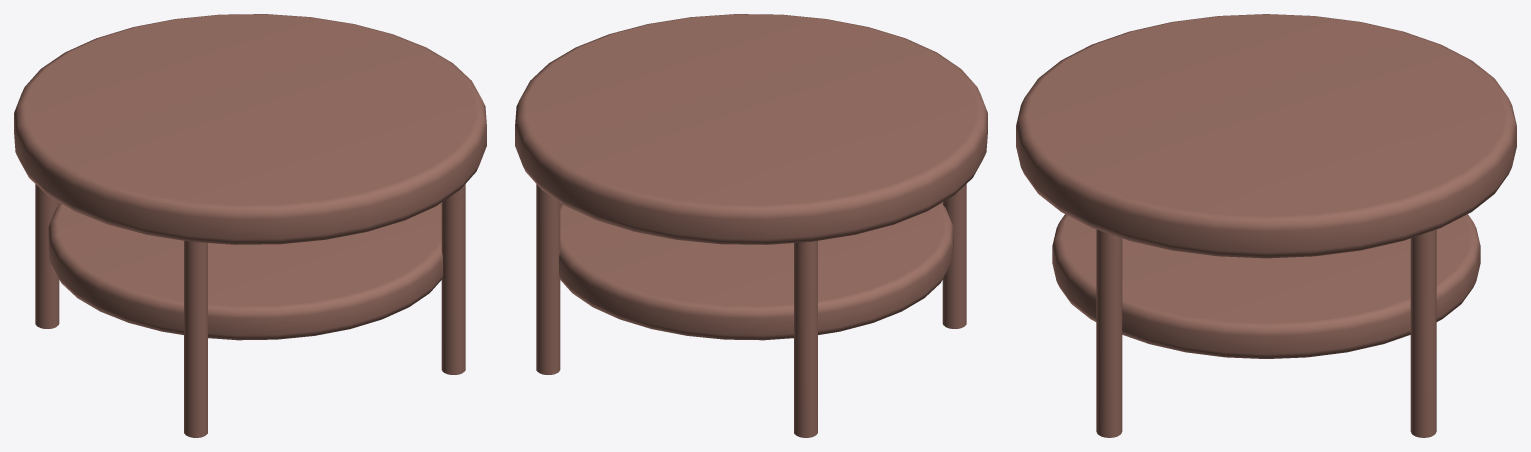
The model's file is Town_18_Table_1.glb.
3 renders of one model, left to right at view 1: azimuth 30°, elevation 25°; view 2: azimuth 150°, elevation 25°; view 3: azimuth 270°, elevation 25°, orthographic. The views are drawn at different scales.
Parts seen in each view (by area): view 1: Town_18_Table_1; view 2: Town_18_Table_1; view 3: Town_18_Table_1.
Boxes of the visible parts, x1,y1,x2,y2 form: Town_18_Table_1: (14,14,486,437); Town_18_Table_1: (515,14,987,437); Town_18_Table_1: (1016,14,1516,437).
Bounding box in the file's own units: 1.17 × 0.6454 × 1.17.
Materials: 1 (1 with a texture image).
